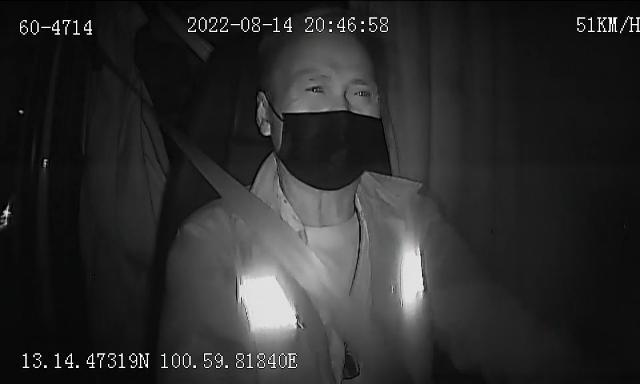SafeDriving: (343, 79, 378, 104), (298, 76, 332, 100)
Seatbelt: (145, 107, 399, 384)
